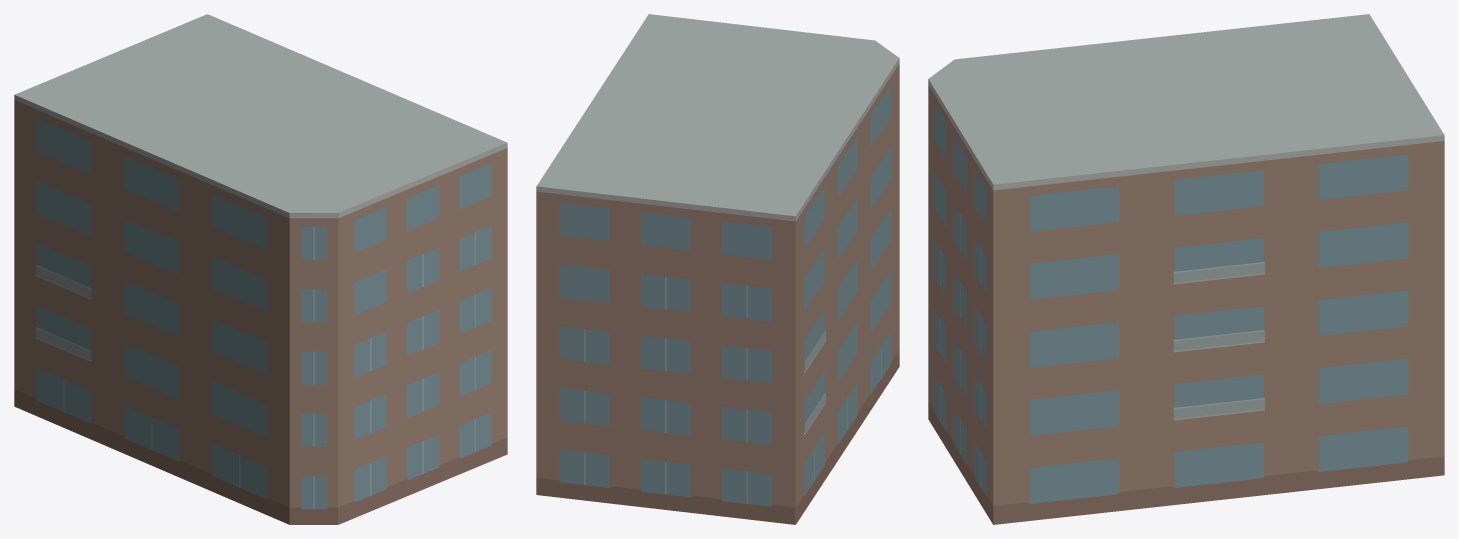
Rendered from survey-upis-32761489.glb.
The picture shows the model from 3 angles, left to right: view 1: azimuth 30°, elevation 25°; view 2: azimuth 150°, elevation 25°; view 3: azimuth 270°, elevation 25°; orthographic projection. The views are drawn at different scales.
Parts seen in each view (by area): view 1: survey-upis-32761489.tmp; view 2: survey-upis-32761489.tmp; view 3: survey-upis-32761489.tmp.
Part boxes in pixels (left/top/right/bottom): survey-upis-32761489.tmp: left=14, top=14, right=507, bottom=524; survey-upis-32761489.tmp: left=536, top=14, right=899, bottom=524; survey-upis-32761489.tmp: left=928, top=14, right=1444, bottom=524.
Size of the model in its own units: 15.62 by 14.5 by 19.96.
